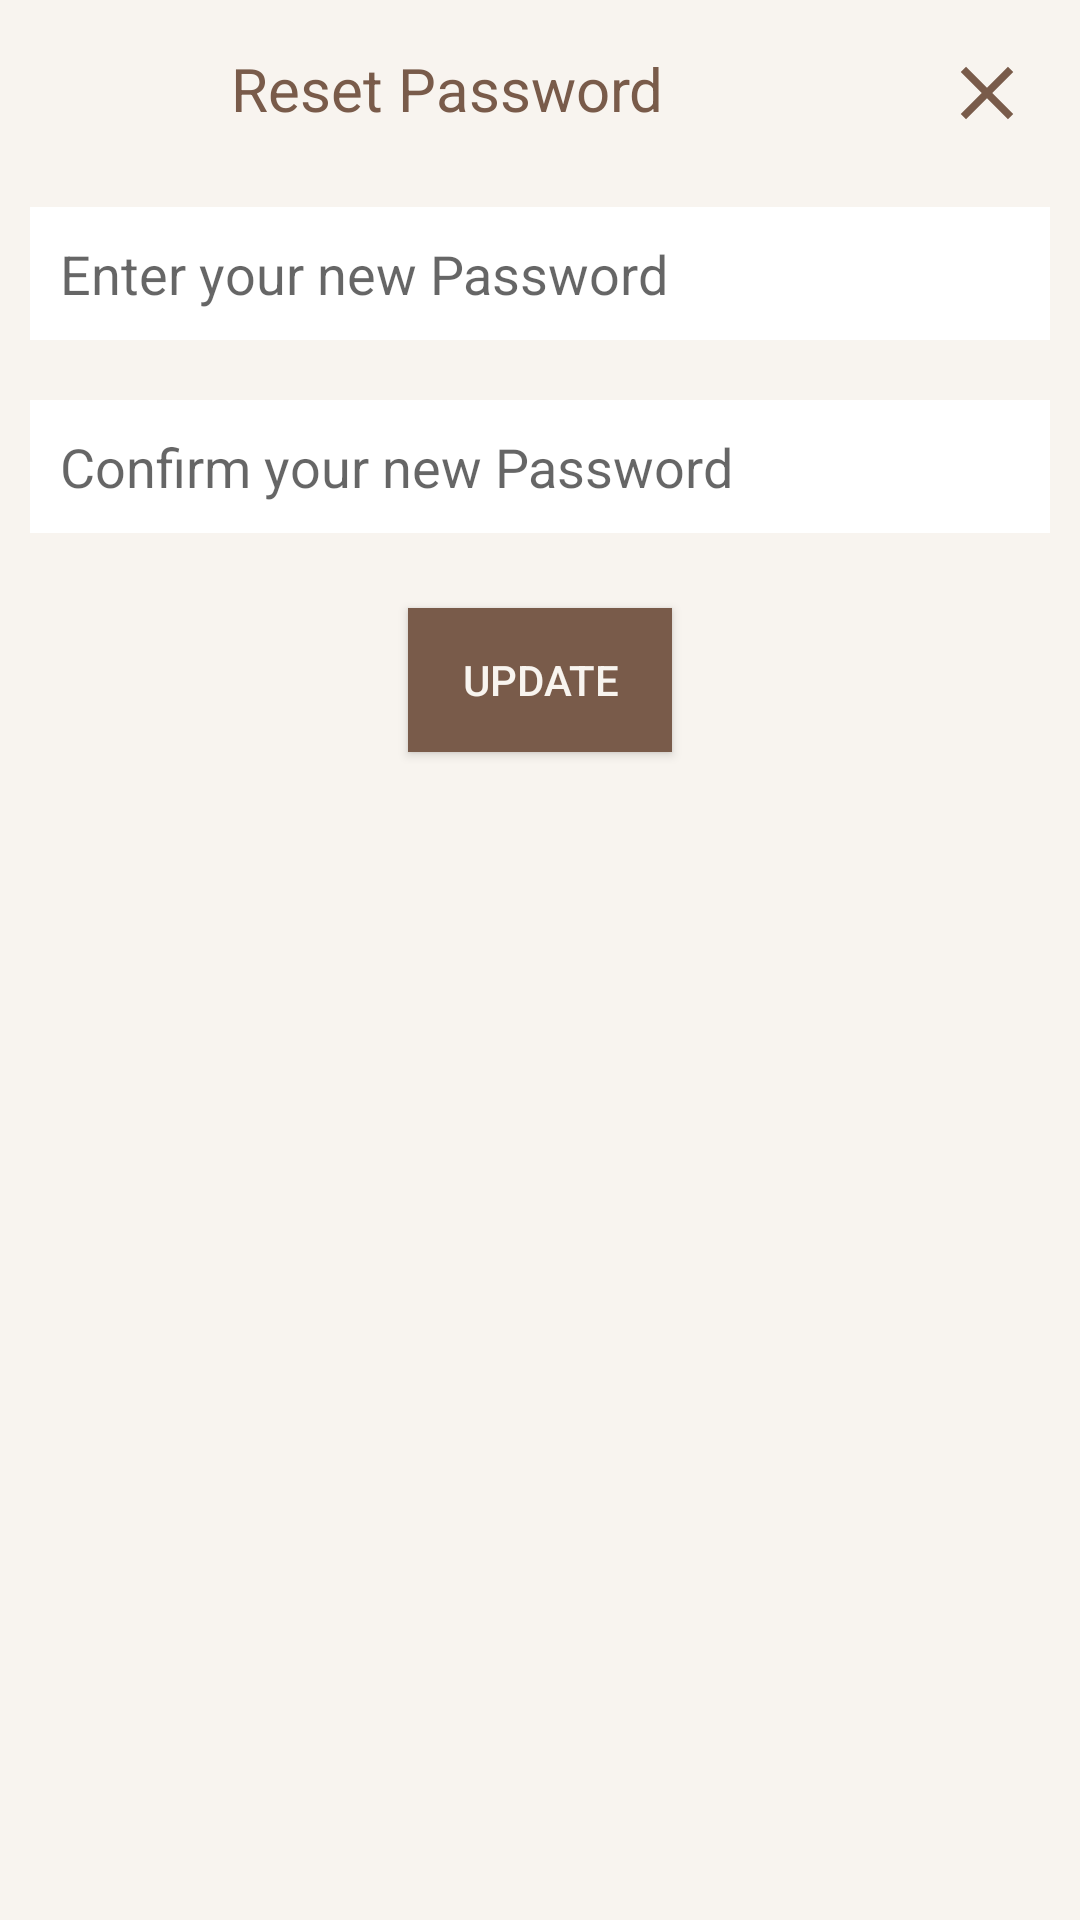

Icons on this 1080px x 1920px Android screen, each with the point to tap as [x,y]:
close: [987,93]
